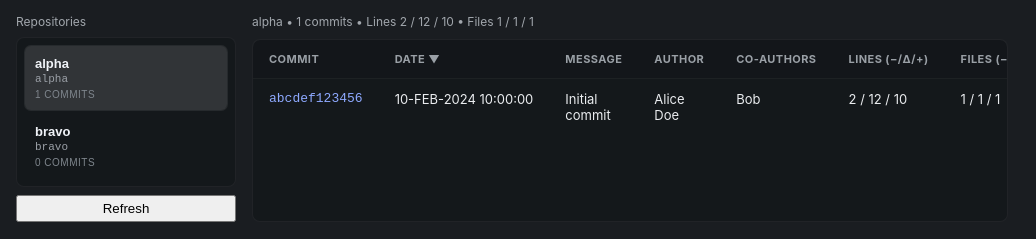
Test case: CommitView › allows switching repositories
This screenshot has width=1036, height=239.
Click the button "bravo bravo 0 commits" at (126, 146), box x1=25 y1=114 x2=227 y2=178
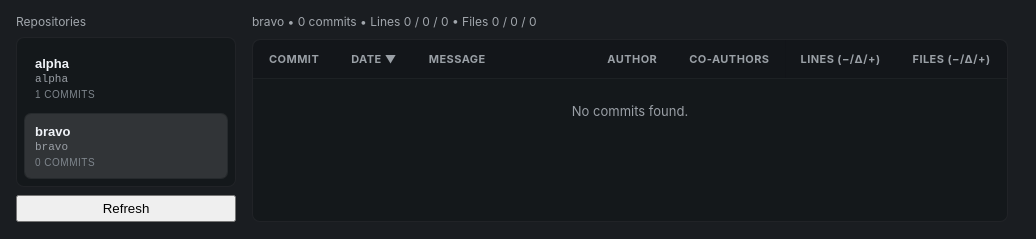
Expected: the text "No commits found." is shown, x1=253 y1=78 x2=1007 y2=143
